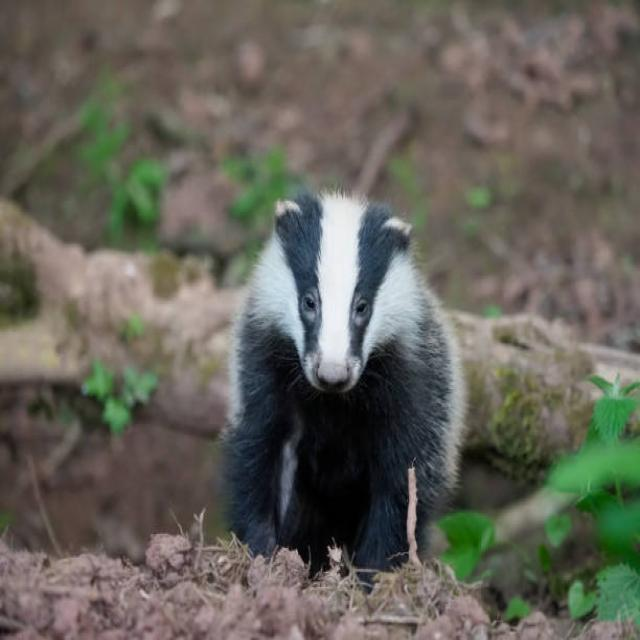Badger: (223, 186, 458, 573)
